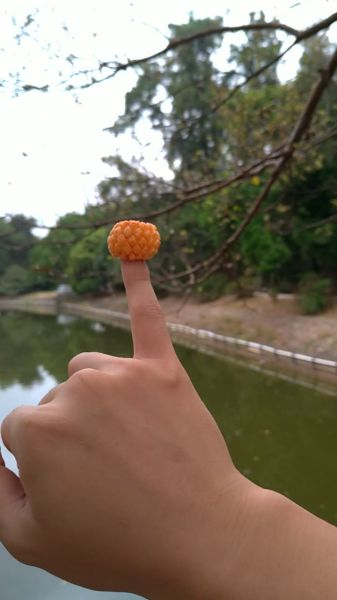eggs: (105, 219, 162, 261)
